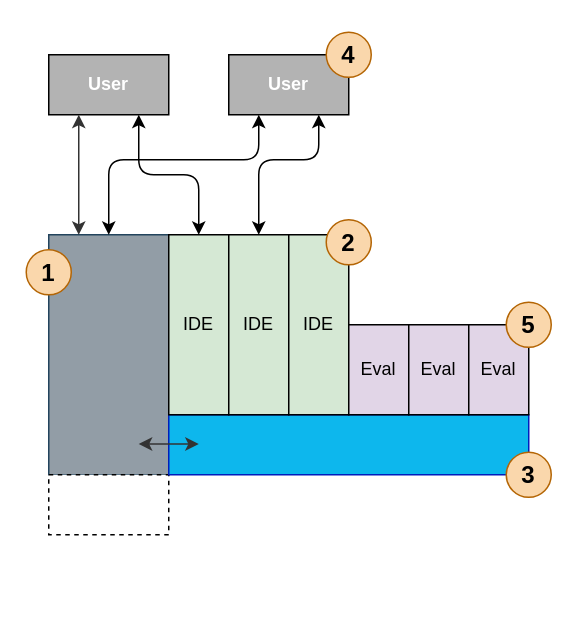
Image size: 578x642. Some labels were removed from this diagram. Here are the shapes that lost their labels. From the top down, the box of each, then its label:
(47, 233, 169, 475): Code FREAK
(167, 413, 529, 475): Docker
(47, 473, 169, 535): Docker (opt.)
